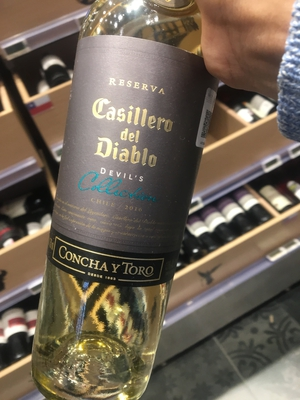casillero del diablo devils collection verde: (55, 14, 212, 365)
